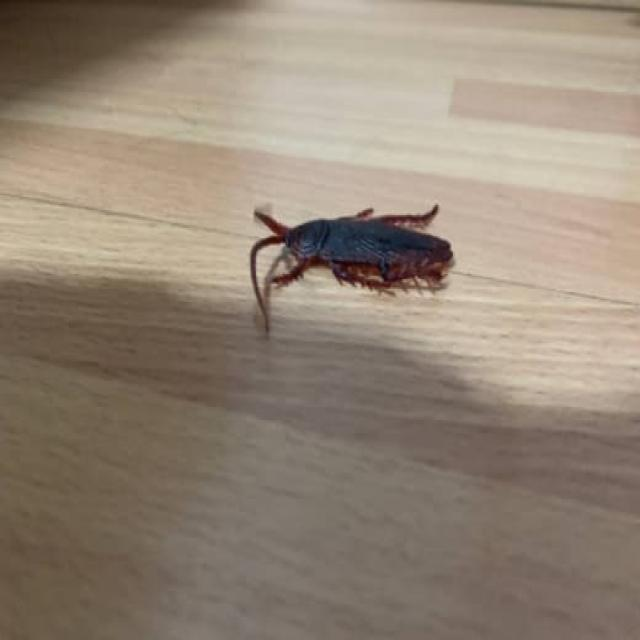Cockroach: (240, 181, 463, 338)
